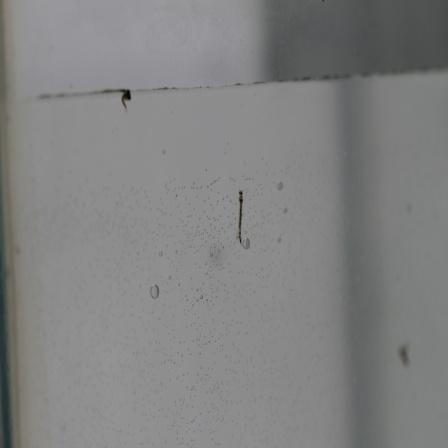Jentik-Nyamuk: (233, 186, 249, 247), (119, 89, 134, 111)
